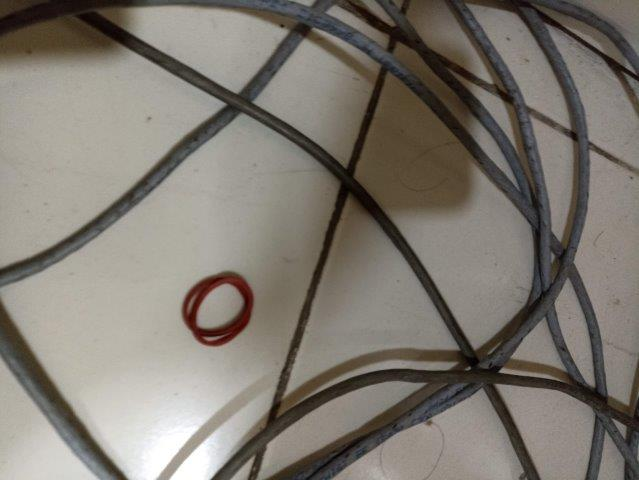karet: (183, 270, 255, 347)
